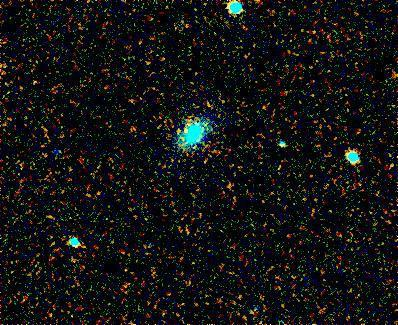star: (168, 114, 198, 144)
